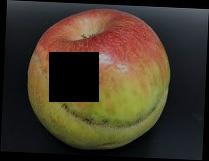rotten apple: (24, 7, 174, 149)
